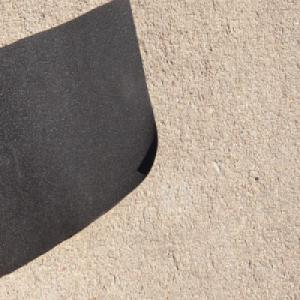PaintChip: (0, 0, 159, 281)
